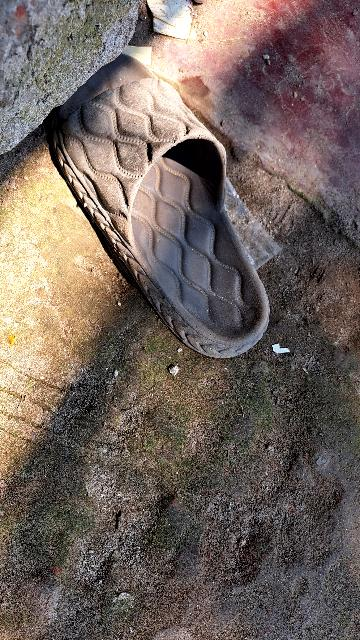sandal: (25, 40, 304, 371)
